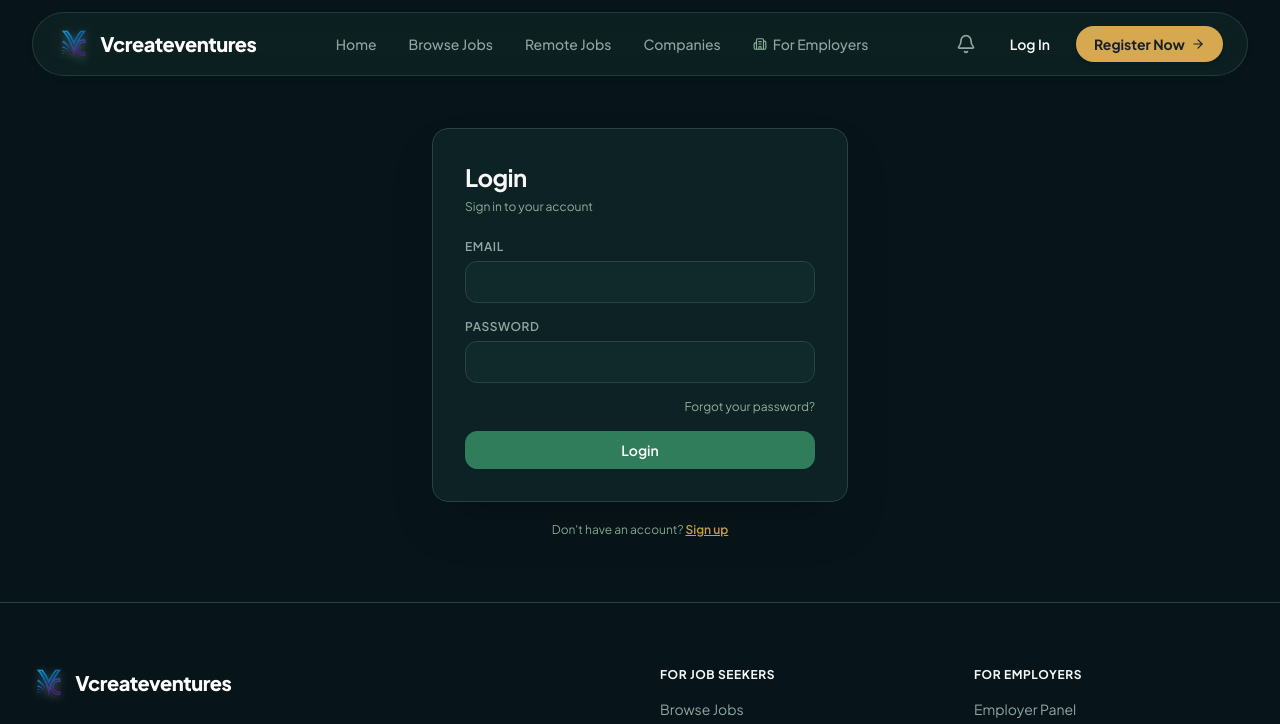
Scenario: login › uses the login response without fetching the session a second time
The width and height of the screenshot is (1280, 724).
Type "candidate@example.com" into the field labelled "Email". click: x=640, y=282
box: [465,261,815,303]
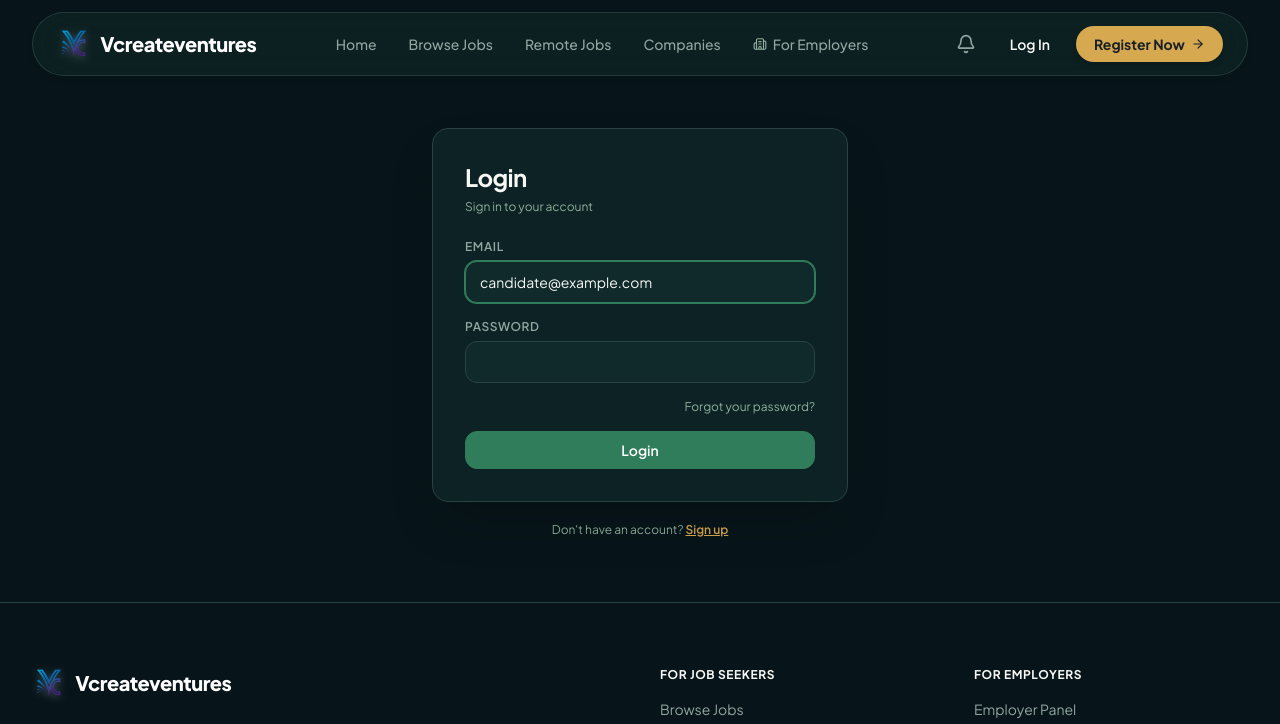
Type "password" into the password field labelled "Password". click: x=640, y=362
box: [465,341,815,383]
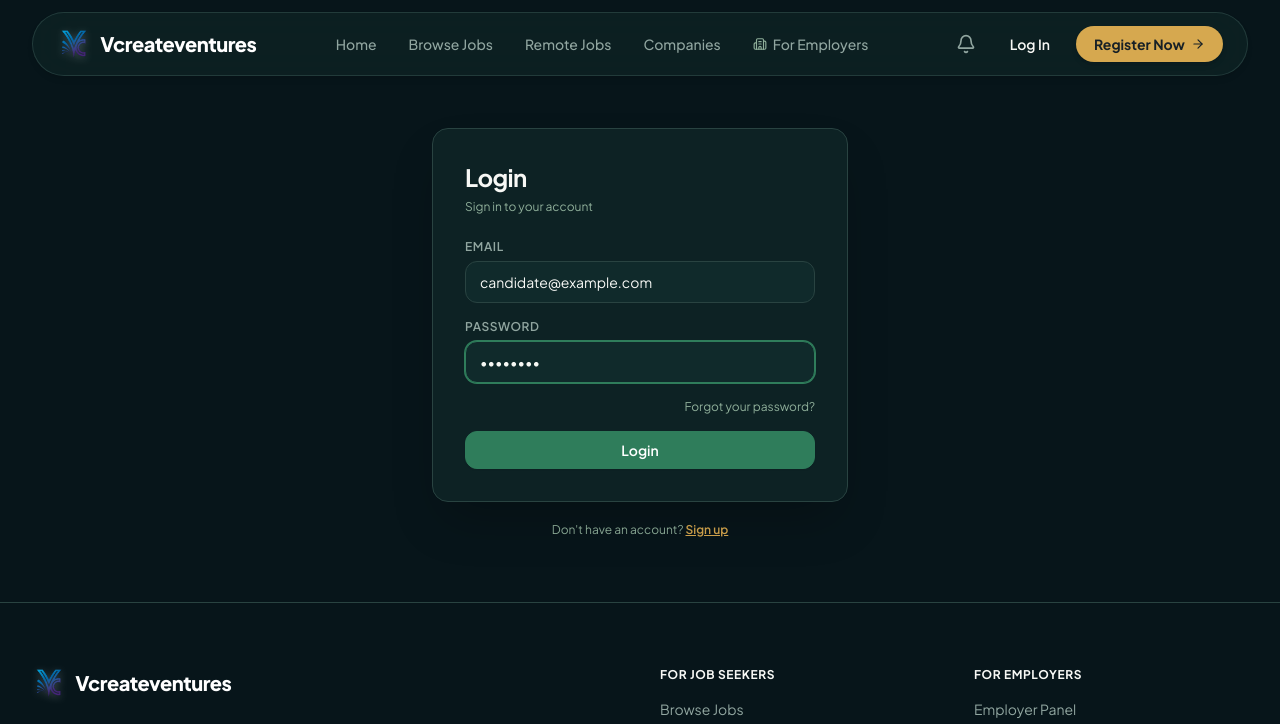
Click the button "Login". click: x=640, y=450
box: [465,431,815,469]
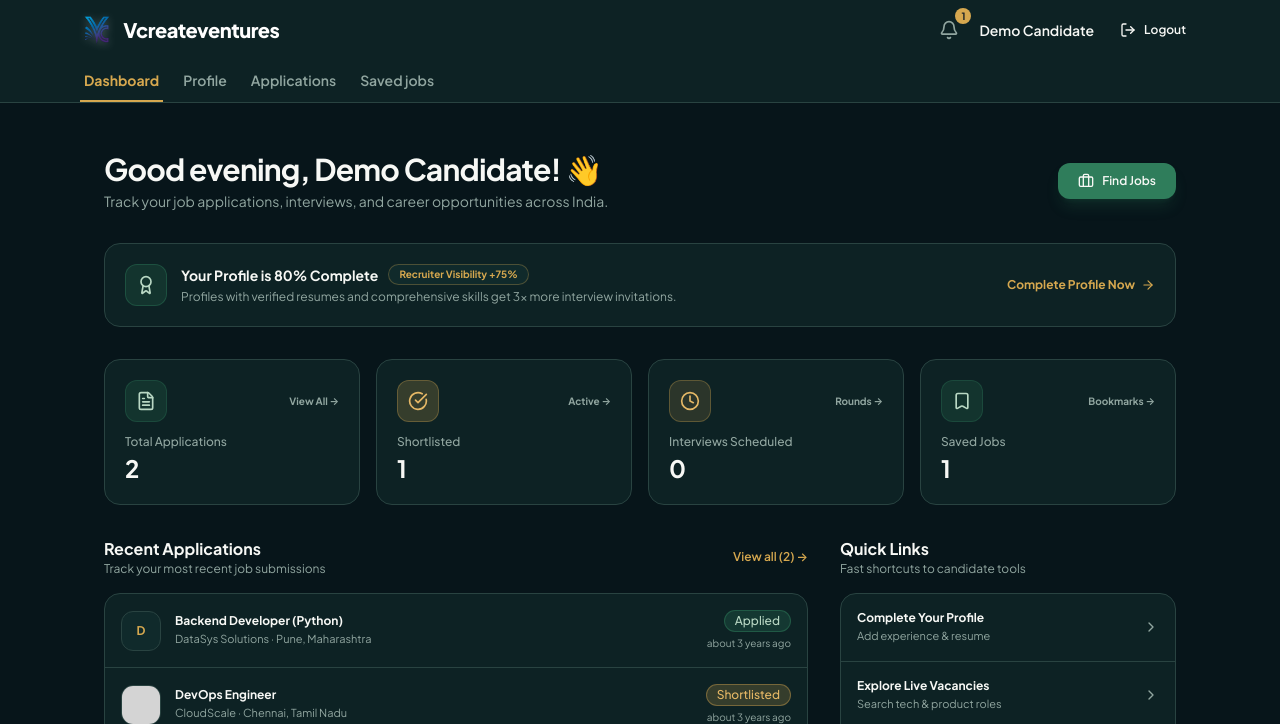
Now the heading "Quick Links" is shown, box [840,538,929,559]
